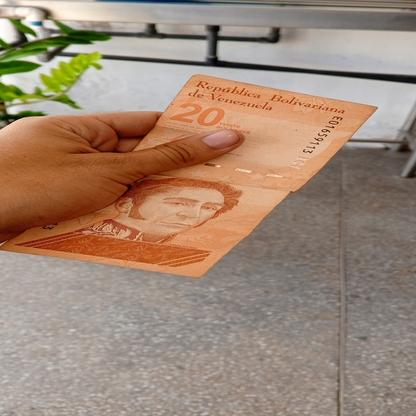twenty-front-vef: (0, 74, 378, 278)
